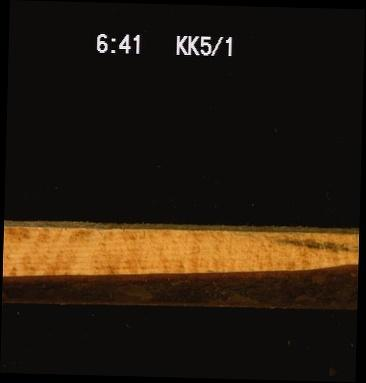wave: (2, 257, 357, 306)
